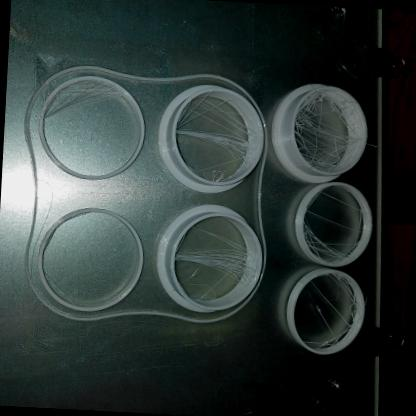fail: (173, 91, 261, 189), (293, 87, 364, 176), (174, 223, 261, 289), (300, 188, 368, 266), (307, 268, 363, 352), (47, 78, 126, 121)
